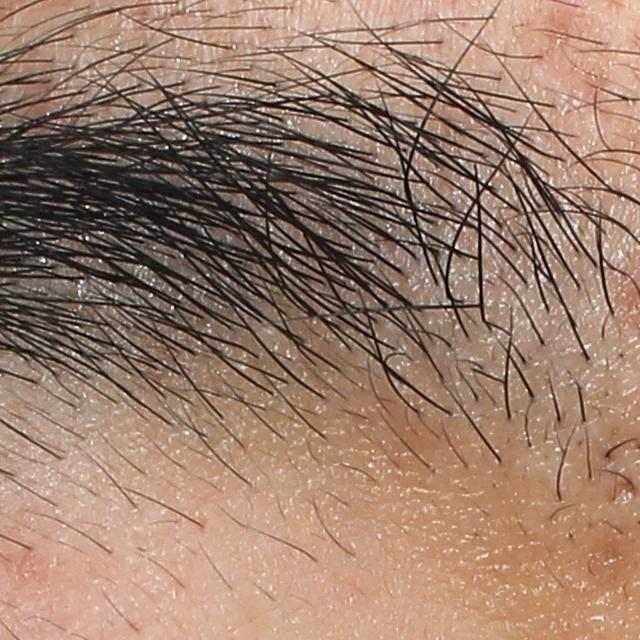atrophic_scar: (530, 12, 589, 70), (592, 532, 635, 594), (609, 476, 639, 506)
